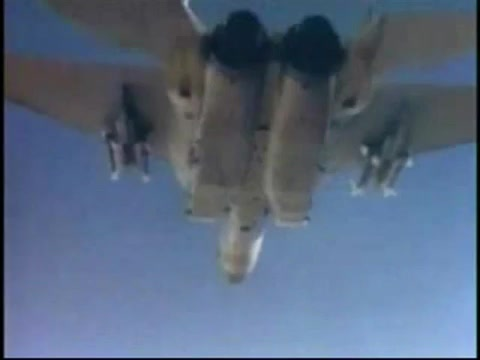aeroplane: (5, 1, 477, 288)
